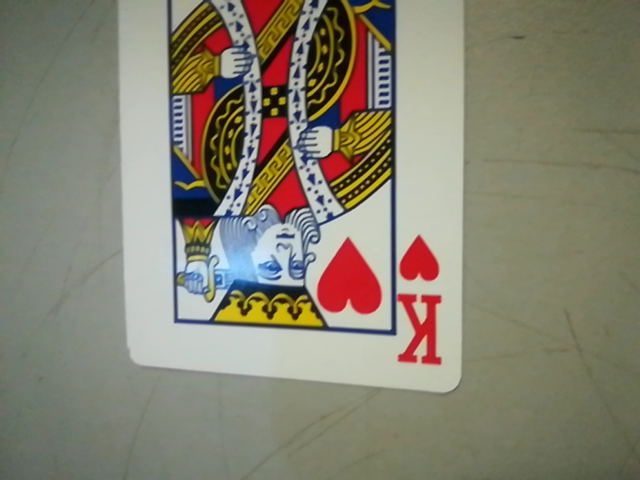hx k: (388, 228, 455, 377)
